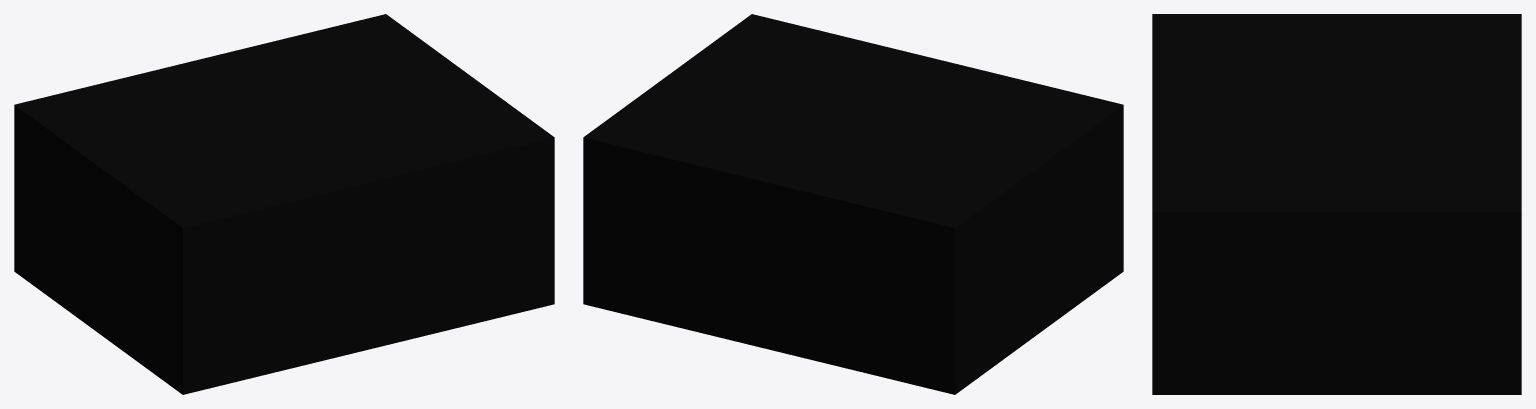
File: visor.gltf
3 renders of one model, left to right at view 1: azimuth 30°, elevation 25°; view 2: azimuth 150°, elevation 25°; view 3: azimuth 270°, elevation 25°, orthographic. The views are drawn at different scales.
Visible parts, largest first — view 1: sweet-glasses-geo; view 2: sweet-glasses-geo; view 3: sweet-glasses-geo.
Part boxes in pixels (left/top/right/bottom): sweet-glasses-geo: left=14, top=14, right=554, bottom=394; sweet-glasses-geo: left=583, top=14, right=1123, bottom=394; sweet-glasses-geo: left=1152, top=14, right=1521, bottom=394.
Size of the model in its own units: 0.4375 by 0.1875 by 0.3438.
Materials: 1 (1 with a texture image).
